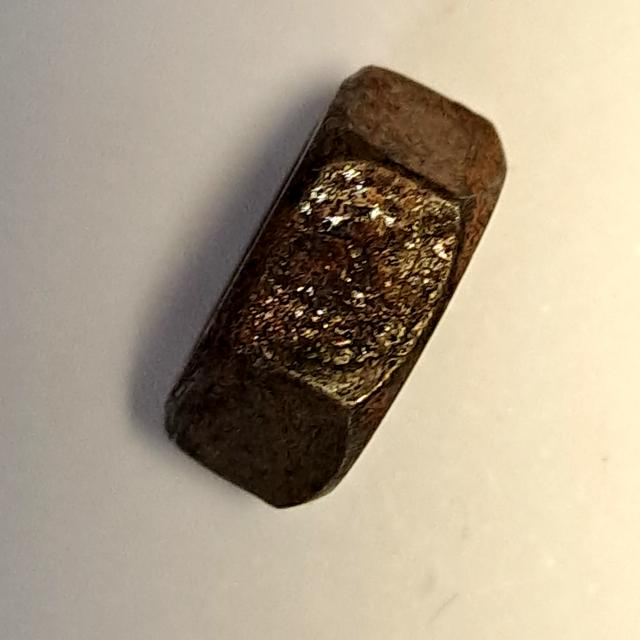Side_Rust: (147, 47, 519, 527)
